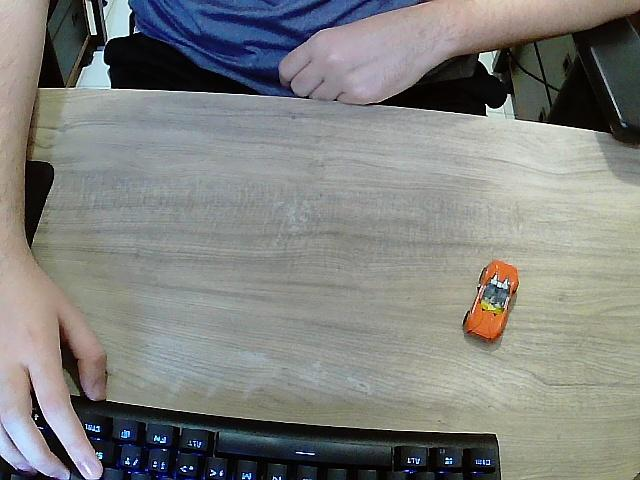Carro: (461, 261, 518, 346)
